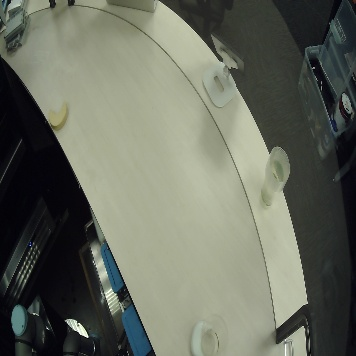empty_cup: (259, 146, 290, 207), (202, 315, 228, 356)
puck: (189, 317, 213, 356), (47, 102, 69, 131)
